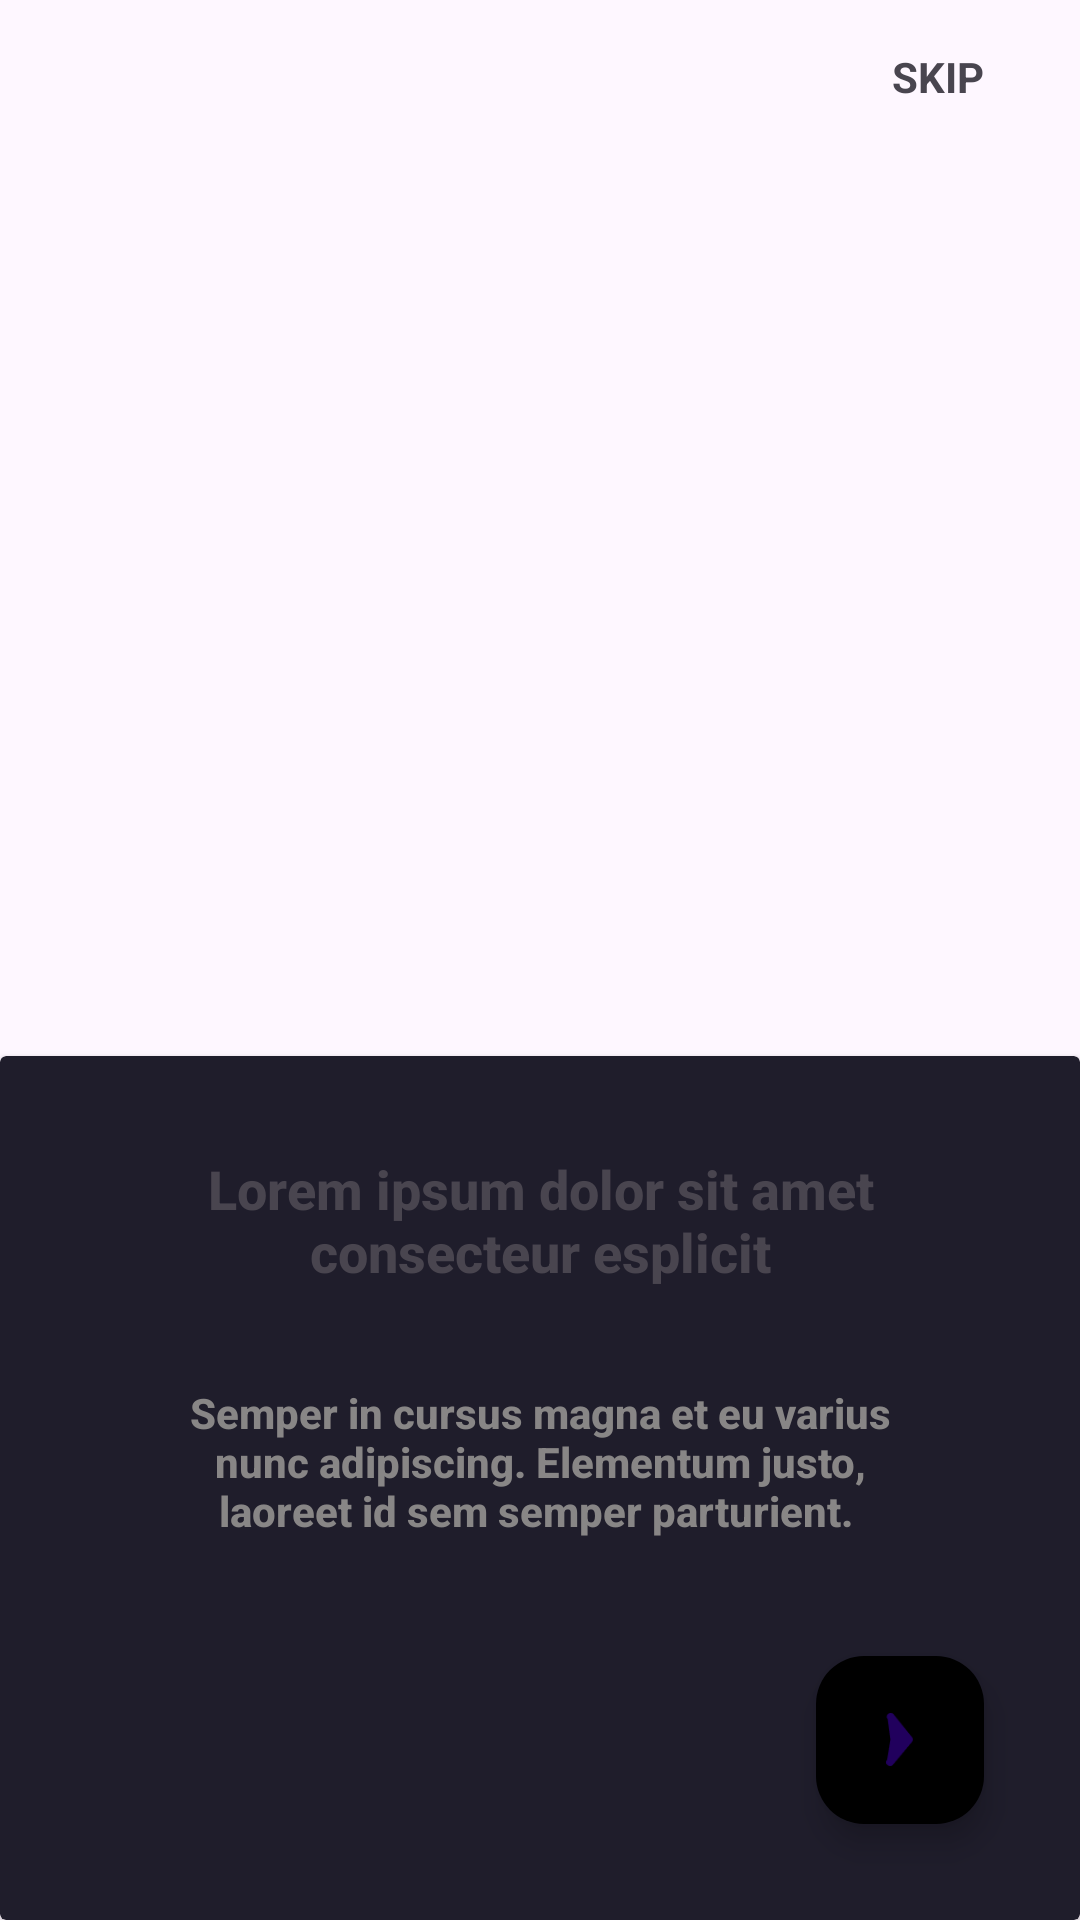

Icon bounding boxes for this 1080px x 1920px phone screenshot, format (x1,y1,x2,y2):
fabvector: (816,1656,984,1824)
